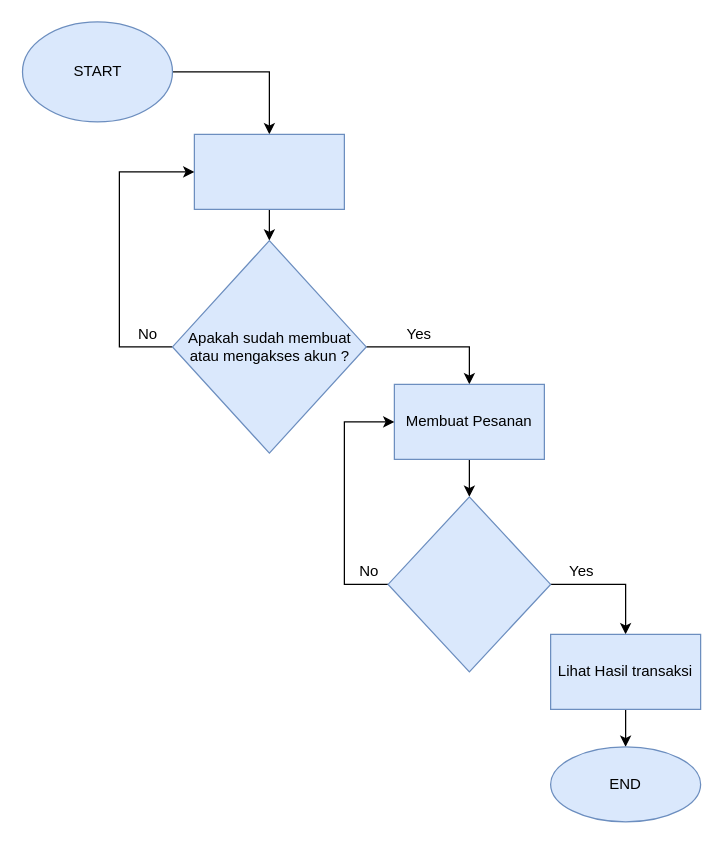
Some shapes in this 723 by 844 pixel diagram are drawn without their labels. Each missing label, with the centre of its shape:
Apakah sudah membuat pesanan ?: point 469,584
Membuat akun atau Mengakses akun: point 268,171
